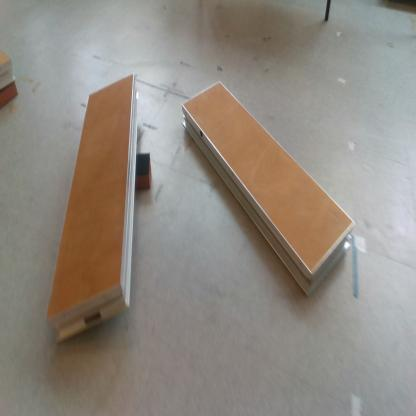Stairs: (182, 77, 356, 302), (47, 72, 141, 348), (1, 49, 17, 96)
